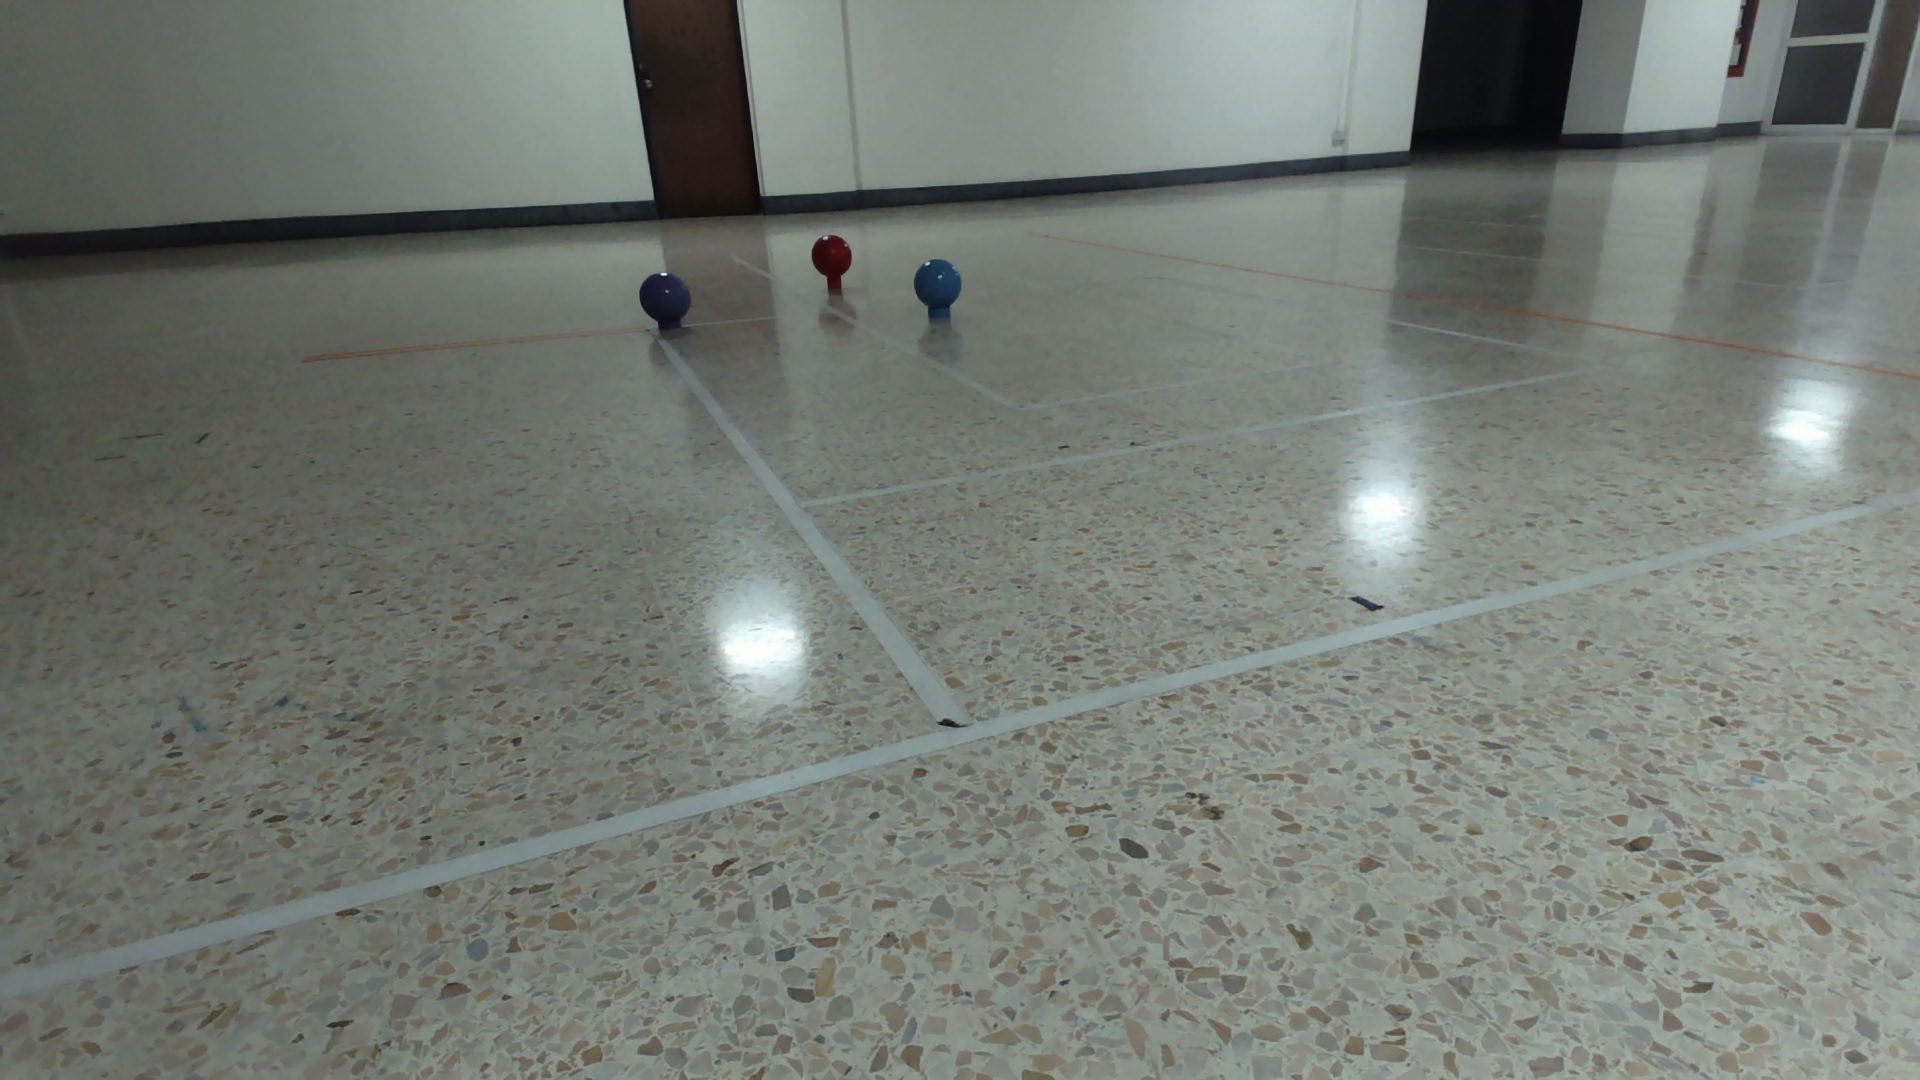Blue ball: (913, 256, 963, 310)
Purple ball: (637, 272, 692, 324)
Red ball: (808, 232, 853, 278)
